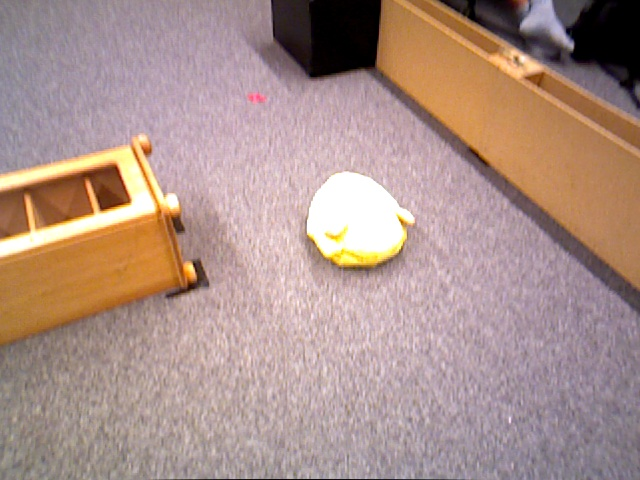grasp: (305, 171, 409, 267)
push: (272, 1, 381, 80)
